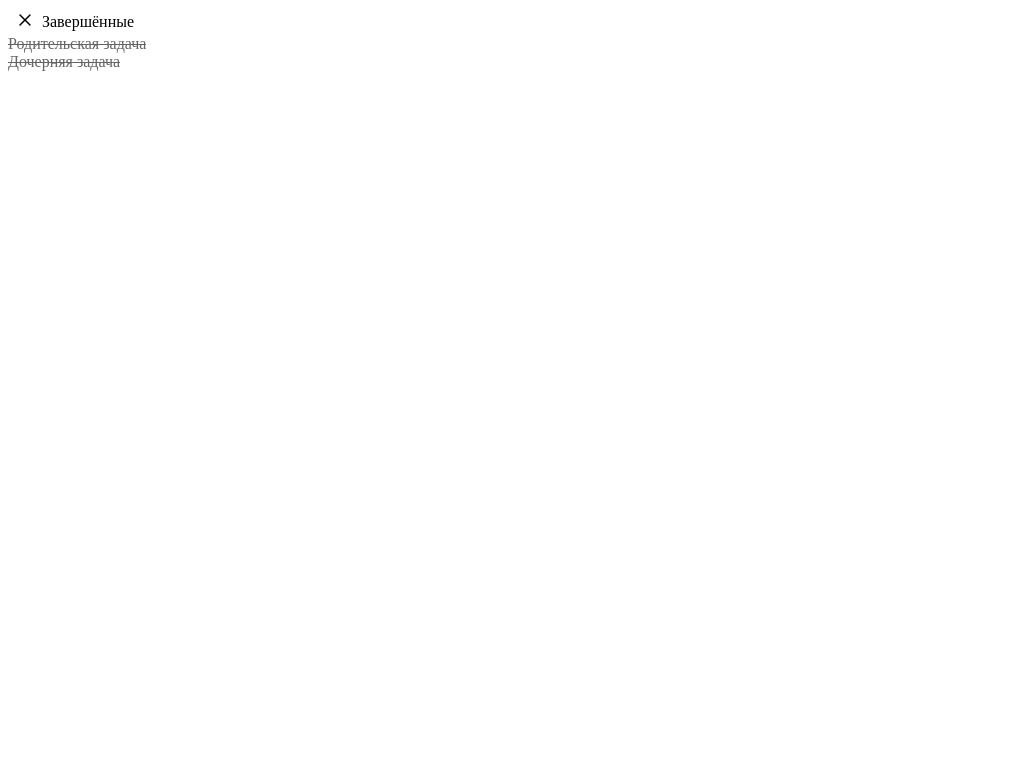
Scenario: Completed — §11.11 Parent+Subtask оба завершены › диалог показывает выбор «Восстановить пару»/«Создать отдельную задачу»; «Восстановить» заблокирована до выбора
Click the text "Дочерняя задача" at (64, 62), box [8, 53, 120, 71]
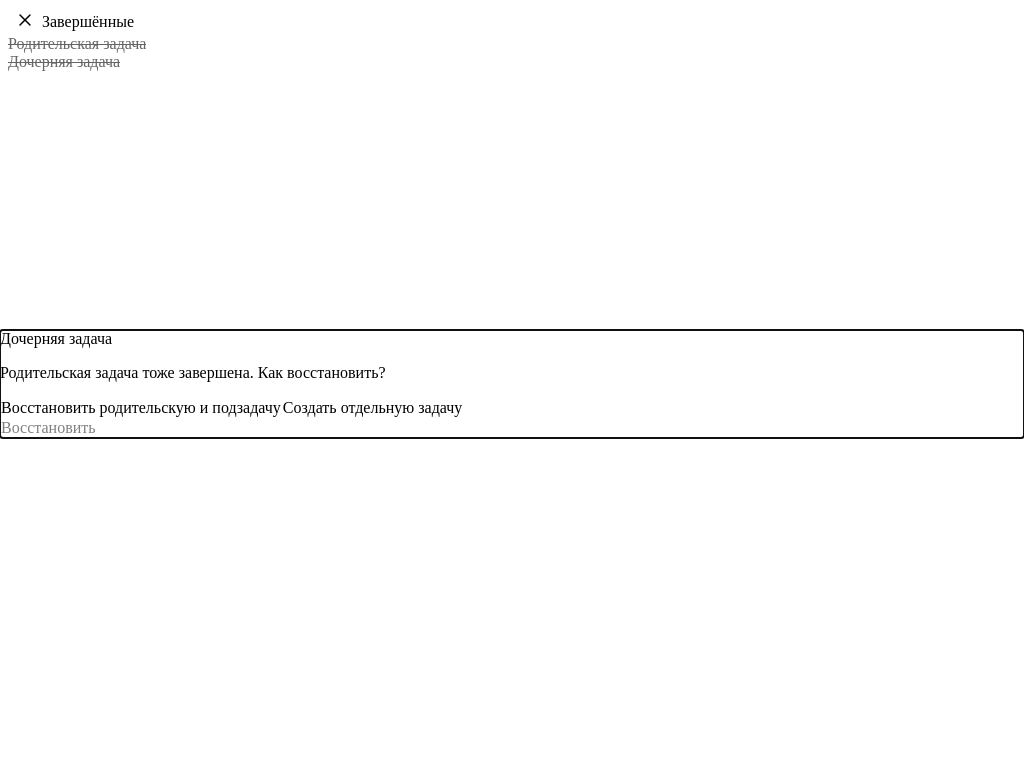
Expected: the button "Создать отдельную задачу" is shown, [282, 398, 463, 418]
Expected: the button "Восстановить" is disabled, [0, 418, 96, 438]
Click the button "Восстановить родительскую и подзадачу" at (141, 408), box [0, 398, 282, 418]
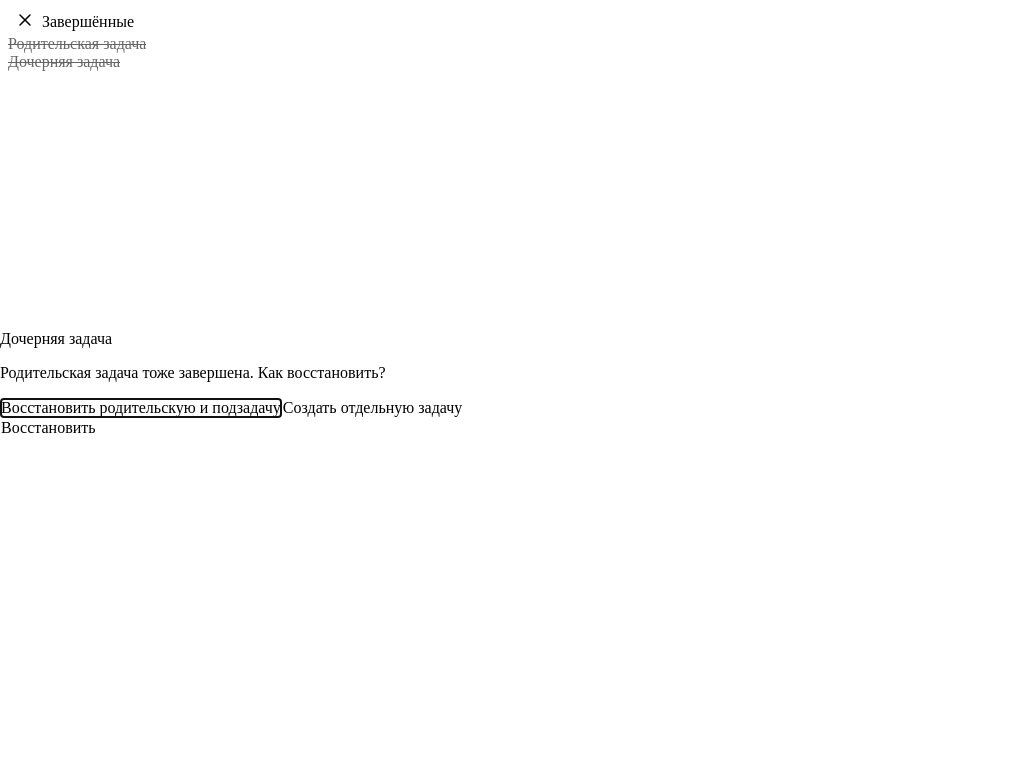
Expected: the button "Восстановить" is enabled, [0, 418, 96, 438]
